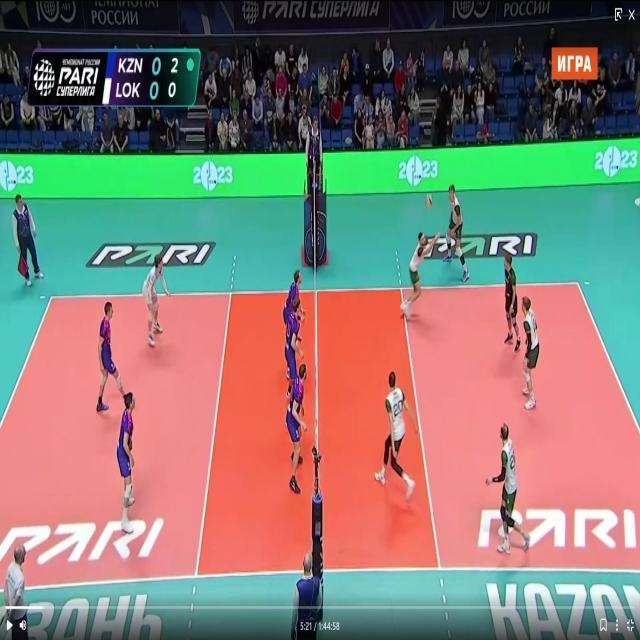volleyball: (425, 194, 433, 209)
